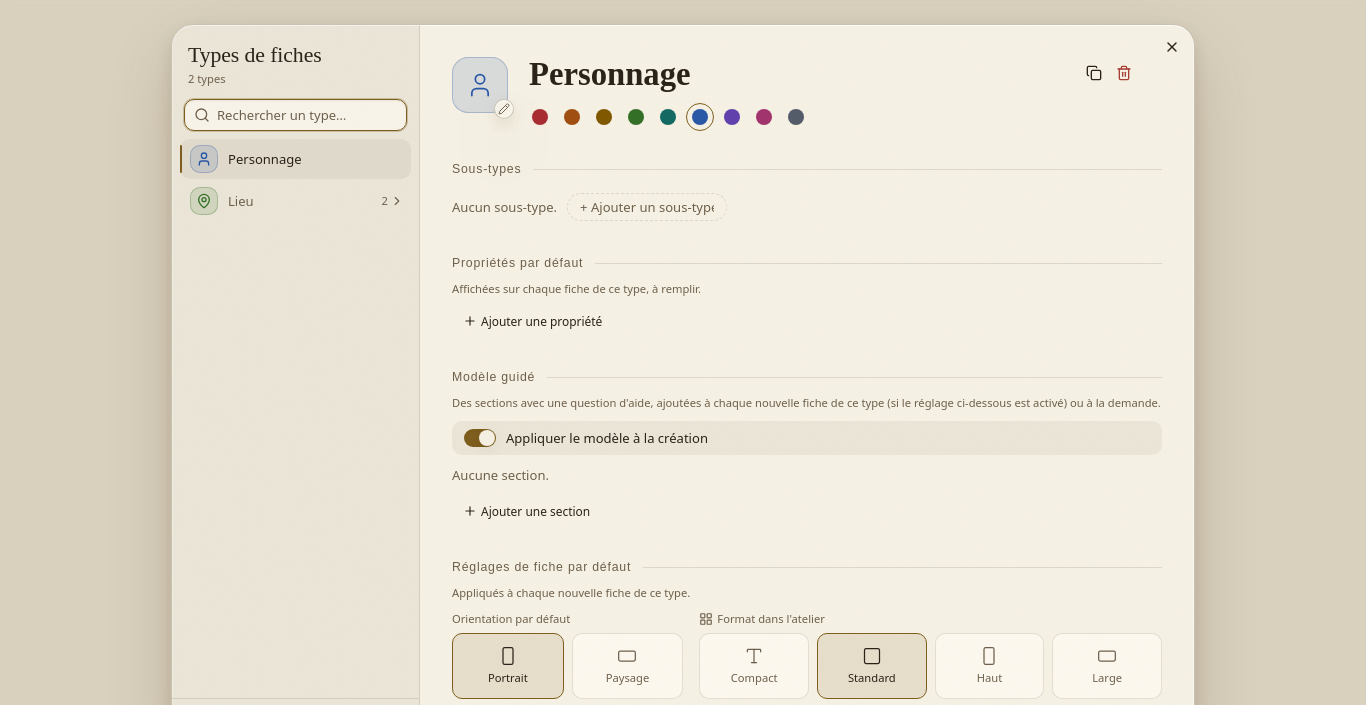
it: lists the types and unfolds the subtypes
Check: the button "Personnage" is shown, box 180,139 -> 411,179
Check: the button "Ville" is not shown
Click the button named "Sous-types de Lieu". click: (393, 201)
box: 375,187 -> 411,215
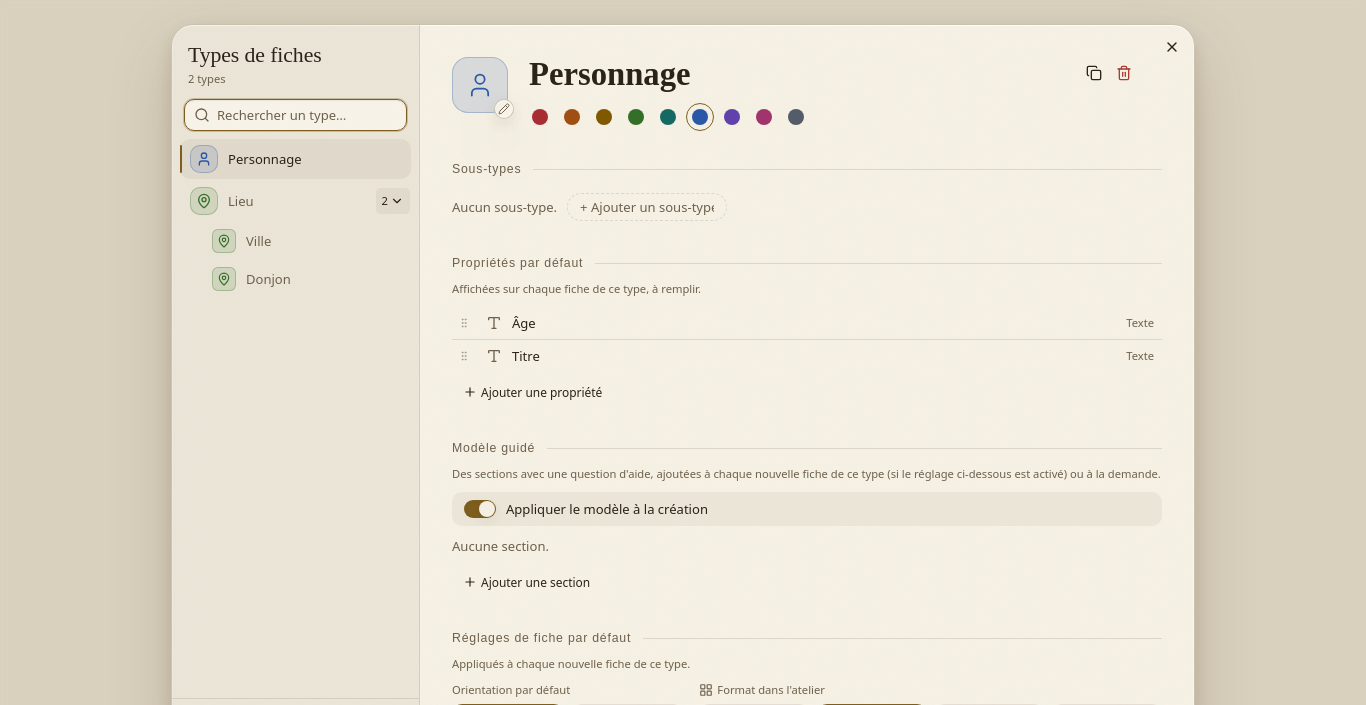
Check: the button "Ville" is shown, box 180,223 -> 411,259
Check: the button "Donjon" is shown, box 180,261 -> 411,297
